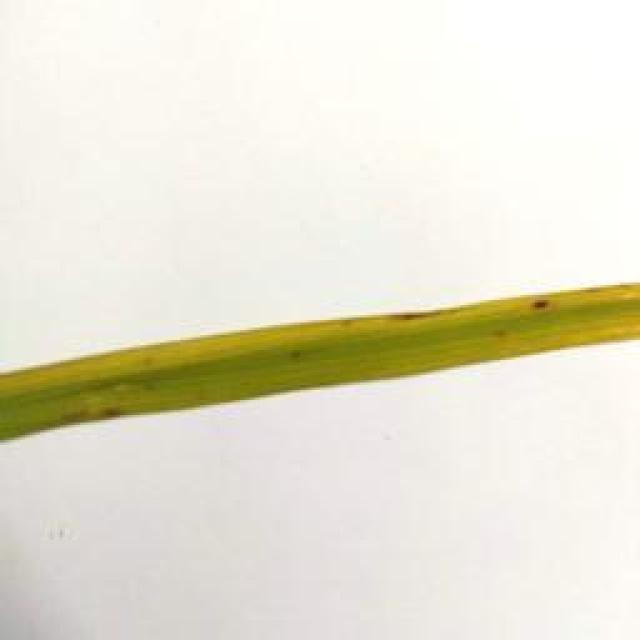Brown_Spot: (367, 304, 451, 329), (66, 397, 152, 419), (276, 340, 320, 374), (514, 294, 566, 322), (484, 316, 524, 349), (337, 308, 354, 339)
